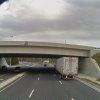Bridge: (1, 26, 97, 65)
